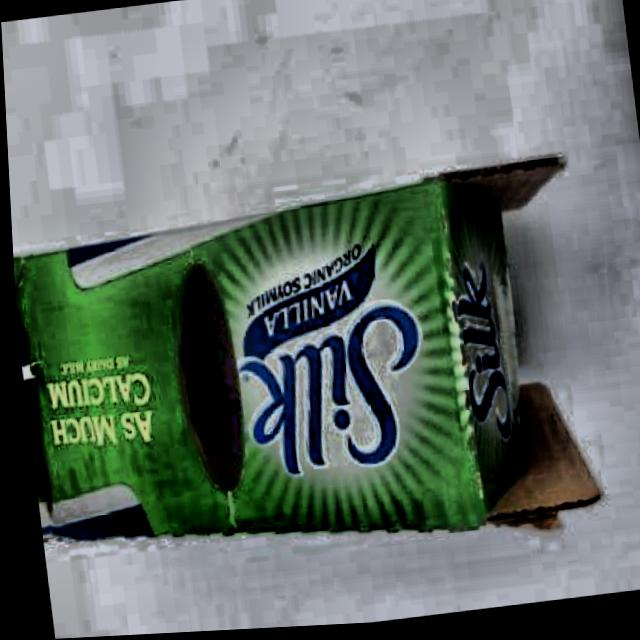Cardbox: (7, 149, 634, 608)
